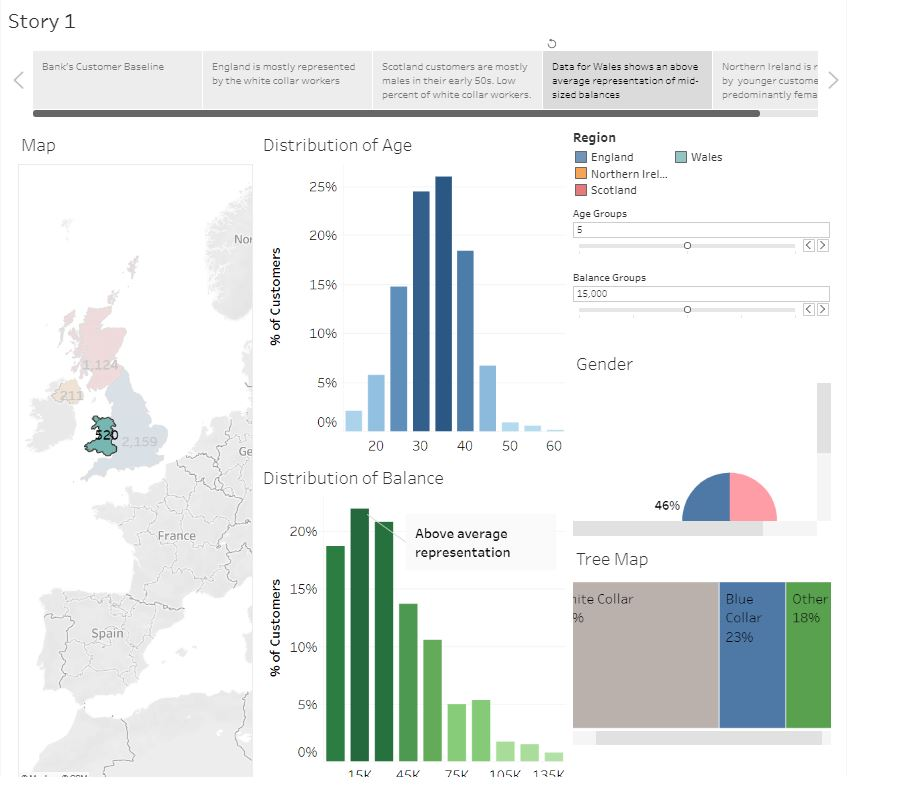

The page's visual inventory and layout, read from the dashboard file:
{"tool":"tableau","page":{"name":"Segmentation Dashboard","canvas":[1000,1000],"units":"permille","ordinal":0},"visuals":[{"type":"worksheet","box":[0,0,1000,1000]},{"type":"worksheet","param":"horz","box":[6.4,9.3,987.2,981.4]},{"type":"worksheet","box":[6.4,9.3,732.8,981.4]},{"type":"worksheet","title":"Map","mark":"Multipolygon","box":[6.4,9.3,318.6,981.4]},{"type":"worksheet","title":"Distribution of Age","mark":"Bar","rows":["P1-UK-Bank-Customers.csv_7DAE841B9A0A4A99B4E02D2874BA4329"],"cols":["Age (bin)"],"box":[325,9.3,414.2,490.7]},{"type":"worksheet","box":[739.2,9.3,254.4,981.4]},{"type":"worksheet","param":"vert","box":[739.2,9.3,254.4,323.3]},{"type":"worksheet","title":"Map","mark":"Multipolygon","param":"[federated.0zovcs214j6m4i18t0jxc1l7mp7n].[none:Region:nk]","box":[739.2,9.3,254.4,116.9]},{"type":"worksheet","param":"[Parameters].[Parameter 2]","box":[739.2,126.2,254.4,89.5]},{"type":"worksheet","param":"[Parameters].[Parameter 1]","box":[739.2,215.7,254.4,116.9]},{"type":"worksheet","param":"vert","box":[739.2,332.6,254.4,658.1]},{"type":"worksheet","title":"Gender","mark":"Pie","box":[739.2,332.6,254.4,272.1]},{"type":"worksheet","title":"Distribution of Balance","mark":"Automatic","rows":["P1-UK-Bank-Customers.csv_7DAE841B9A0A4A99B4E02D2874BA4329"],"cols":["Balance (bin)"],"box":[325,500,414.2,490.7]},{"type":"worksheet","title":"Tree Map","mark":"Automatic","box":[739.2,604.6,254.4,386.1]}]}

Visuals, with their boxes on the dashboard's canvas, which has no fixed pixel size, in thousandths of its width and height (x1, y1, x2, y2). These are canvas units, not pixel positions in the 904x800 screenshot, which may show the page scaled, cropped or inside an application window:
worksheet: region(0, 0, 1000, 1000)
worksheet: region(6, 9, 994, 991)
worksheet: region(6, 9, 739, 991)
"Map" worksheet (Multipolygon marks): region(6, 9, 325, 991)
"Distribution of Age" worksheet (Bar marks): region(325, 9, 739, 500)
worksheet: region(739, 9, 994, 991)
worksheet: region(739, 9, 994, 333)
"Map" worksheet (Multipolygon marks): region(739, 9, 994, 126)
worksheet: region(739, 126, 994, 216)
worksheet: region(739, 216, 994, 333)
worksheet: region(739, 333, 994, 991)
"Gender" worksheet (Pie marks): region(739, 333, 994, 605)
"Distribution of Balance" worksheet: region(325, 500, 739, 991)
"Tree Map" worksheet: region(739, 605, 994, 991)
